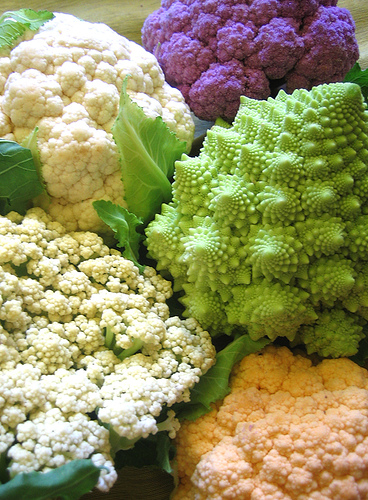cauliflower: (0, 210, 217, 490), (0, 10, 196, 246), (161, 339, 366, 498), (145, 0, 356, 118)
